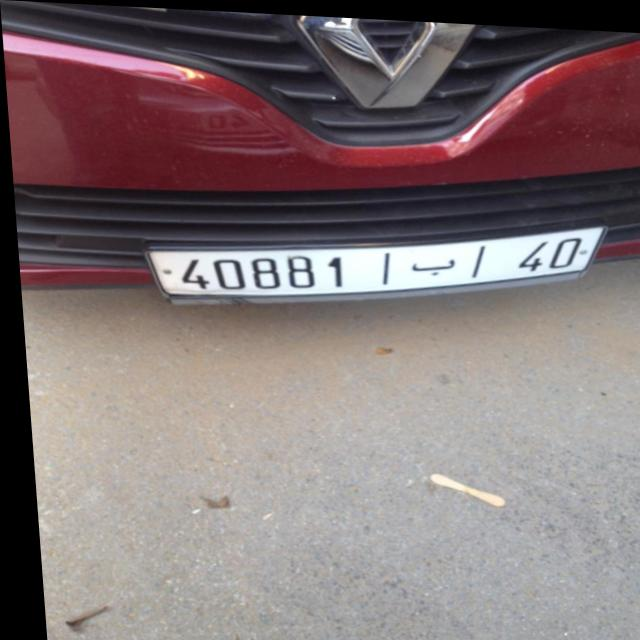License-Plate: (143, 220, 603, 299)
